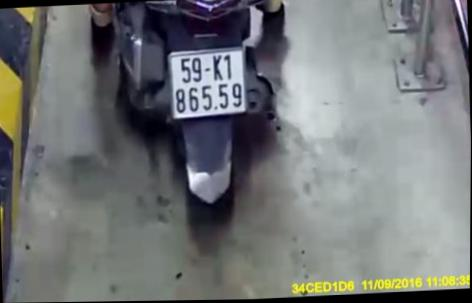LP: (166, 45, 254, 124)
